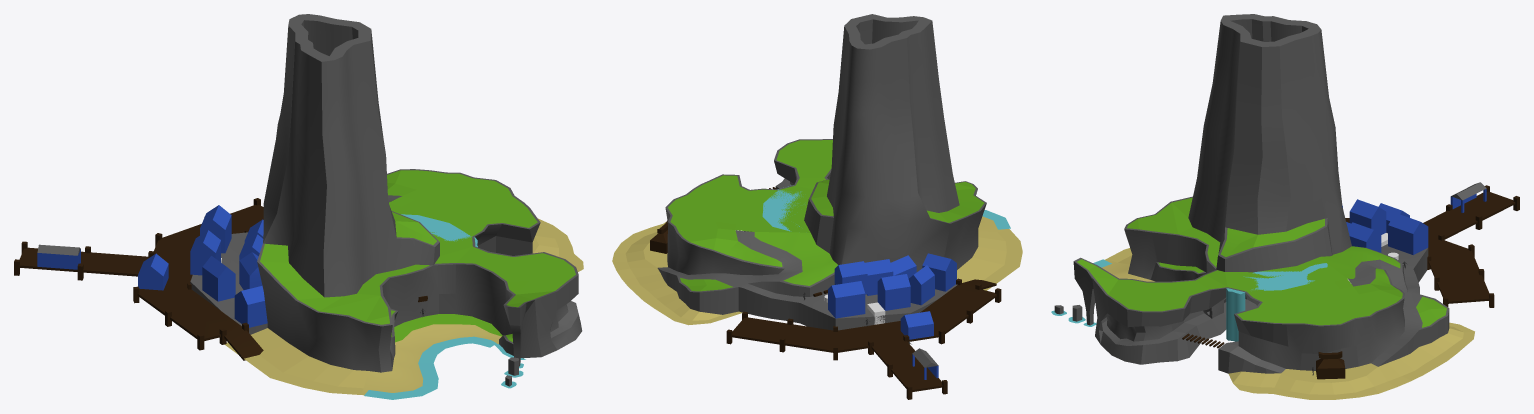
File: SM_BeachSceneOLD.fbx
3 renders of one model, left to right at view 1: azimuth 30°, elevation 25°; view 2: azimuth 150°, elevation 25°; view 3: azimuth 270°, elevation 25°, orthographic. The views are drawn at different scales.
Visible parts, largest first — view 1: Cliffs, Sand, Box006, Box044, Box041, Box042, Box035, Box040, Waves2, Waves1, Plane002, Box050 (+2 smaller); view 2: Cliffs, Sand, Box006, Box040, Box042, Plane002, Box041, Box044, Box035, Box043, Box045, Box050 (+1 smaller); view 3: Cliffs, Sand, Box006, Plane002, Box040, Box042, Rocks, Box007, Box043, Cave.
Part boxes in pixels (x1,y1,x2,y2): Cliffs: [190, 14, 582, 372]; Sand: [224, 212, 583, 395]; Box006: [19, 205, 263, 360]; Box044: [202, 256, 235, 301]; Box041: [234, 285, 267, 327]; Box042: [190, 230, 220, 275]; Box035: [138, 253, 168, 290]; Box040: [200, 205, 231, 253]; Waves2: [364, 340, 493, 399]; Waves1: [366, 336, 496, 396]; Plane002: [401, 214, 477, 247]; Box050: [239, 252, 262, 289]; Cliffs: [657, 14, 986, 330]; Sand: [612, 179, 1022, 325]; Box006: [731, 279, 996, 391]; Box040: [828, 281, 865, 318]; Box042: [877, 274, 910, 310]; Plane002: [762, 185, 801, 231]; Box041: [922, 253, 956, 291]; Box044: [908, 265, 934, 305]; Box035: [900, 311, 933, 339]; Box043: [834, 261, 867, 294]; Box045: [864, 259, 893, 295]; Box050: [890, 255, 916, 278]; Cliffs: [1073, 14, 1449, 373]; Sand: [1102, 197, 1474, 399]; Box006: [1345, 191, 1515, 303]; Plane002: [1226, 263, 1327, 341]; Box040: [1388, 213, 1428, 254]; Box042: [1349, 199, 1386, 234]; Rocks: [1054, 262, 1206, 321]; Box007: [1316, 351, 1345, 379]; Box043: [1348, 222, 1381, 252]; Cave: [1203, 297, 1256, 333].
Size of what is drawn, in the model's own units: 10223 by 6047 by 10025.
